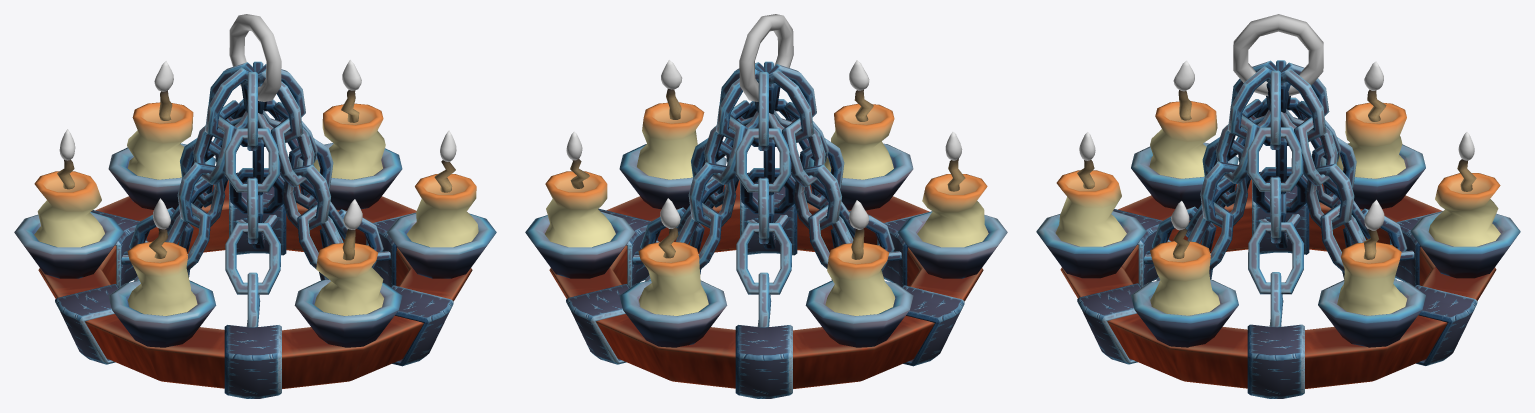
Rendered from chandelier.fbx.
3 views of the same model, side by side, from view 1: azimuth 30°, elevation 25°; view 2: azimuth 150°, elevation 25°; view 3: azimuth 270°, elevation 25° (orthographic).
Parts seen in each view (by area): view 1: base, hoop.001, fire.004, fire.001, fire.002, fire.005, fire.003, fire, candle_holder.013, candle_holder, candle_holder.012, candle_holder.009 (+34 smaller); view 2: base, fire, hoop.003, fire.005, fire.003, fire.004, fire.001, fire.002, candle_holder.011, candle_holder.012, candle_holder.013, candle_holder.010 (+37 smaller); view 3: base, hoop.005, fire.002, fire.003, fire.001, fire.005, fire, fire.004, candle_holder.010, candle_holder.009, candle_holder, candle_holder.011 (+35 smaller).
Part boxes in pixels (left/top/right/bottom): base: left=38, top=180, right=472, bottom=388; hoop.001: left=224, top=325, right=281, bottom=398; fire.004: left=34, top=171, right=104, bottom=247; fire.001: left=406, top=174, right=478, bottom=247; fire.002: left=314, top=243, right=383, bottom=315; fire.005: left=127, top=241, right=197, bottom=315; fire.003: left=127, top=102, right=194, bottom=179; fire: left=313, top=103, right=385, bottom=179; candle_holder.013: left=108, top=280, right=216, bottom=347; candle_holder: left=294, top=279, right=402, bottom=347; candle_holder.012: left=14, top=212, right=124, bottom=278; candle_holder.009: left=386, top=213, right=496, bottom=278; base: left=549, top=180, right=983, bottom=388; fire: left=545, top=171, right=615, bottom=247; hoop.003: left=735, top=325, right=792, bottom=398; fire.005: left=917, top=174, right=988, bottom=247; fire.003: left=638, top=242, right=708, bottom=315; fire.004: left=825, top=242, right=895, bottom=315; fire.001: left=637, top=102, right=705, bottom=179; fire.002: left=824, top=103, right=894, bottom=179; candle_holder.011: left=619, top=280, right=727, bottom=347; candle_holder.012: left=805, top=280, right=913, bottom=347; candle_holder.013: left=897, top=211, right=1007, bottom=278; candle_holder.010: left=525, top=211, right=635, bottom=278; base: left=1060, top=179, right=1496, bottom=388; hoop.005: left=1247, top=324, right=1304, bottom=398; fire.002: left=1055, top=170, right=1126, bottom=246; fire.003: left=1428, top=173, right=1500, bottom=246; fire.001: left=1150, top=241, right=1219, bottom=315; fire.005: left=1149, top=101, right=1217, bottom=178; fire: left=1337, top=242, right=1406, bottom=315; fire.004: left=1336, top=102, right=1406, bottom=178; candle_holder.010: left=1318, top=280, right=1425, bottom=347; candle_holder.009: left=1131, top=279, right=1238, bottom=347; candle_holder: left=1036, top=211, right=1146, bottom=278; candle_holder.011: left=1410, top=211, right=1520, bottom=278.
Size of the model in its own units: 2493 by 1865 by 2723.
